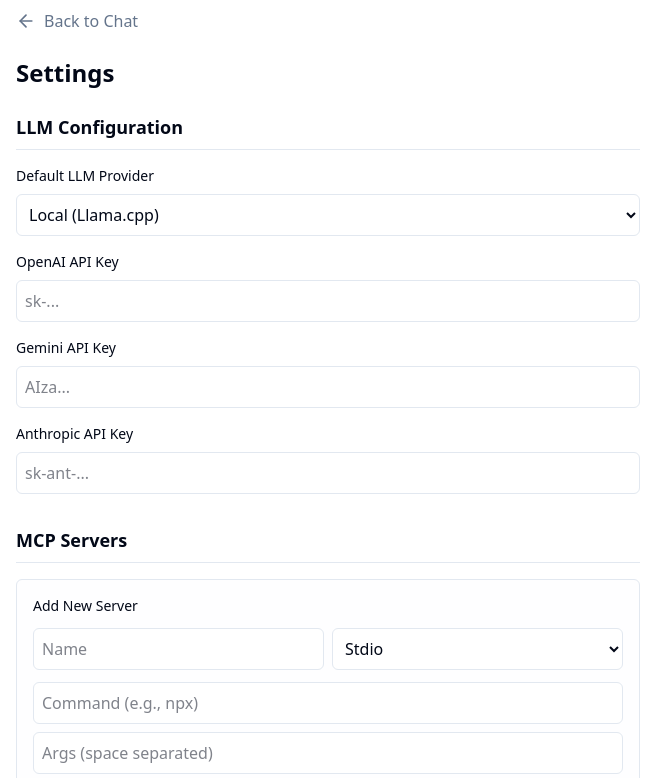
Settings Component › adds a new MCP server
This screenshot has width=657, height=778.
Type "TestServer" into the field with placeholder "Name".
click(178, 649); type("TestServer")  # box [33, 628, 324, 670]
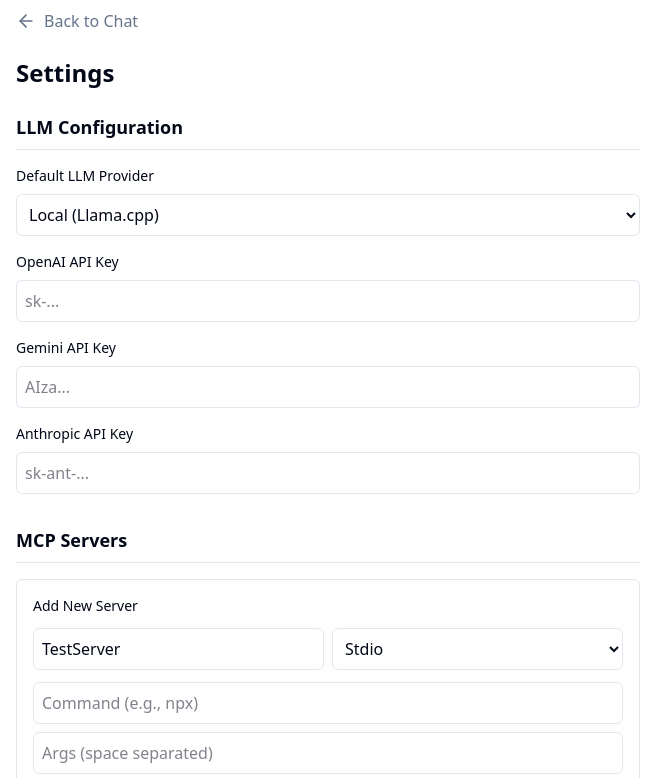
Type "echo" into the field with placeholder "Command (e.g., npx)".
click(328, 703); type("echo")  # box [33, 682, 623, 724]
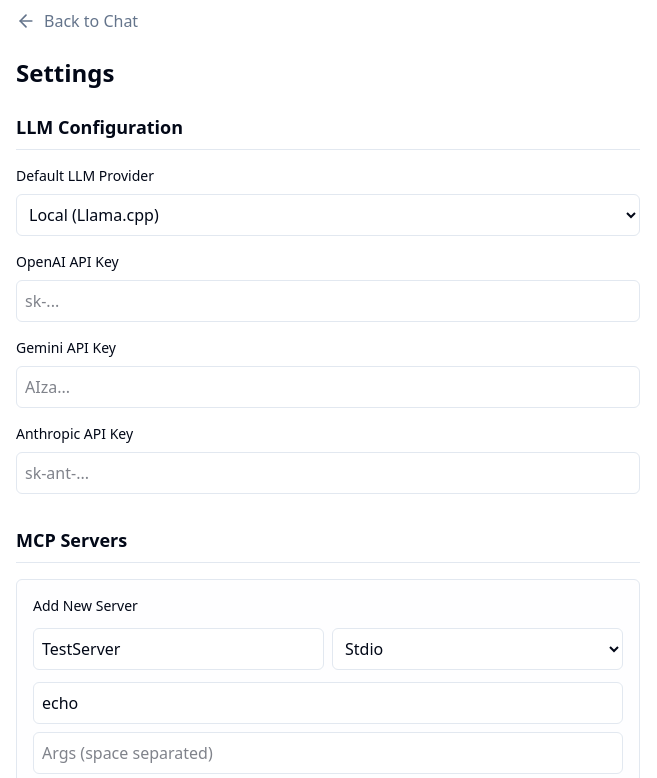
Type "hello" into the field with placeholder "Args (space separated)".
click(328, 753); type("hello")  # box [33, 732, 623, 774]
(page scrolled)
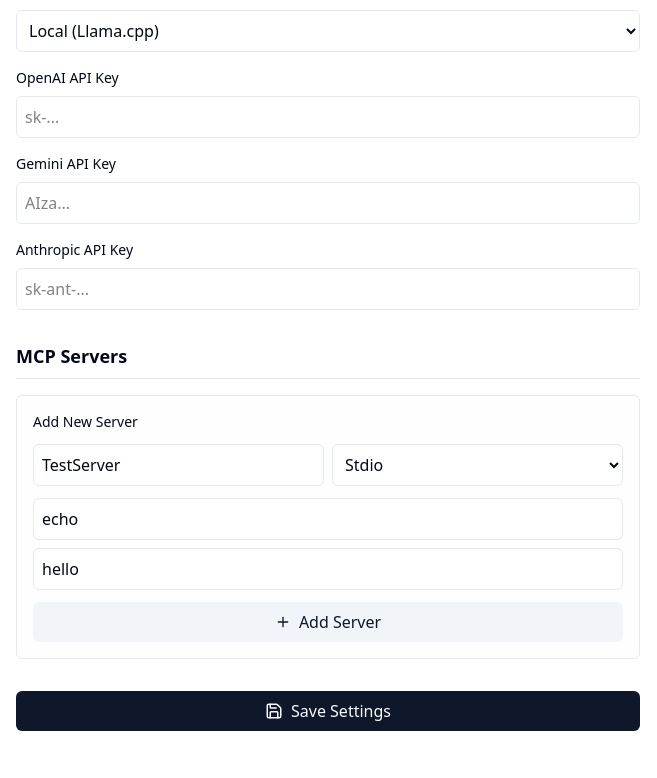
Click the button "Add Server".
click(328, 622)  # box [33, 602, 623, 642]
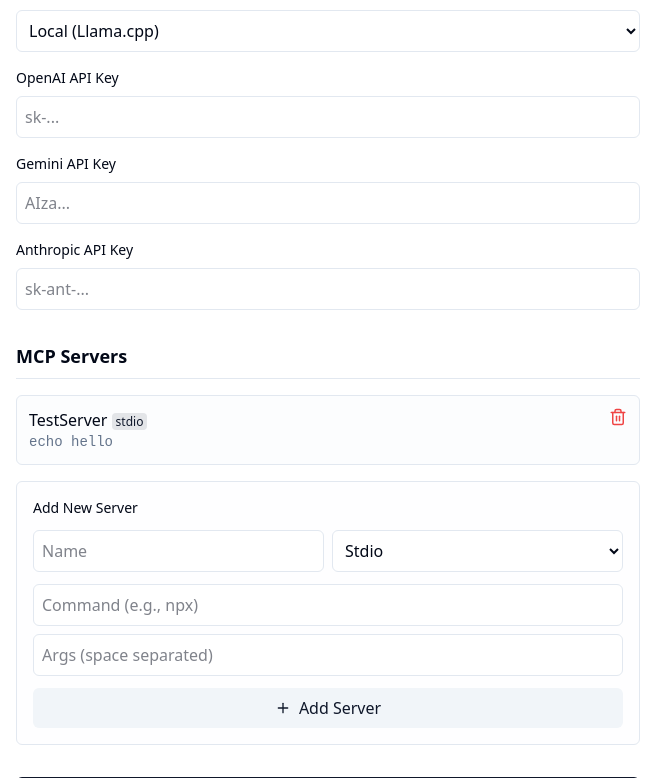
Now the text "TestServer" is shown, box [29, 409, 107, 431]
